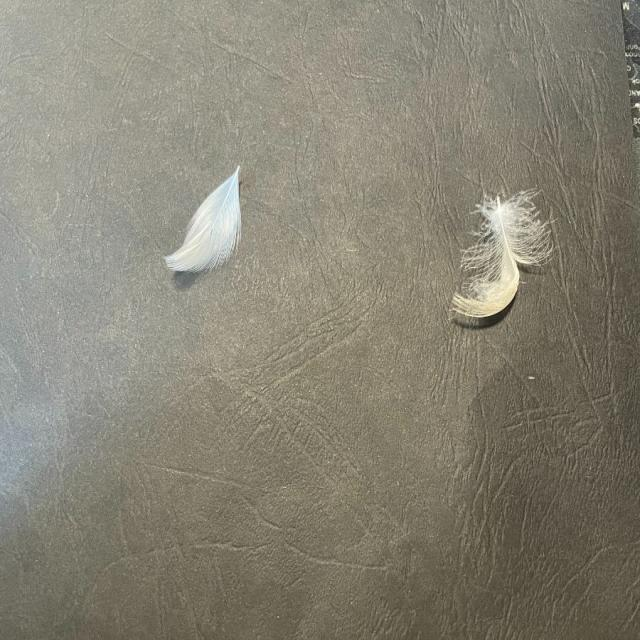feather: (447, 184, 551, 317), (164, 162, 246, 274)
